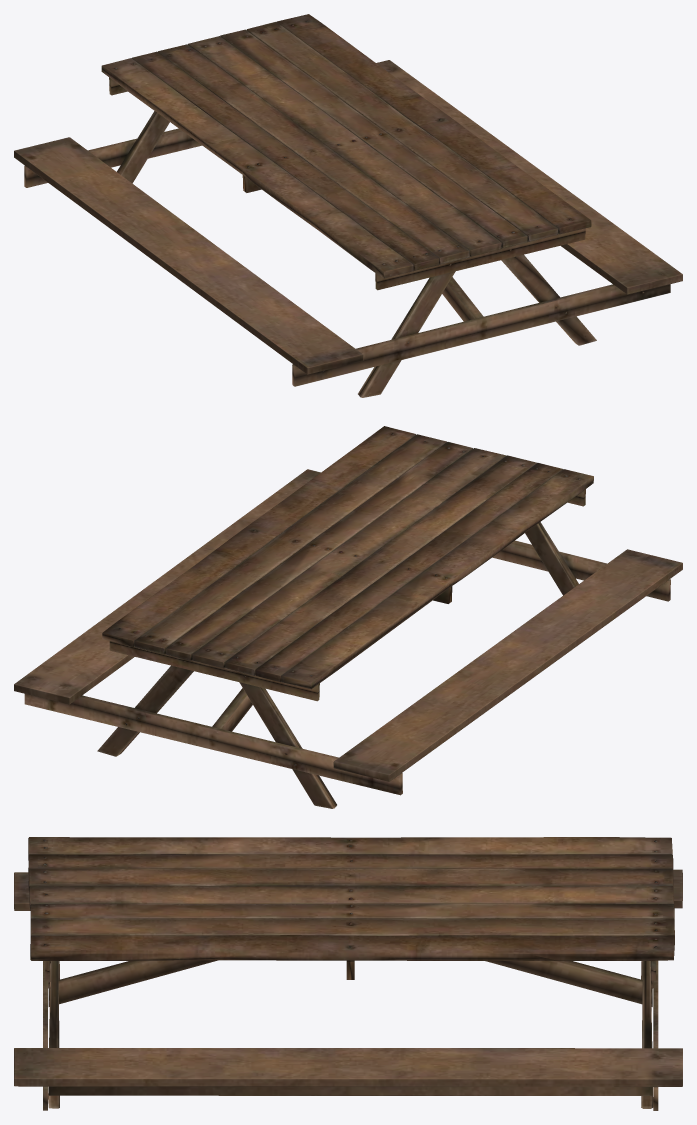
The model's file is wooden_picnic_table.glb.
3 renders of one model, top to bottom at view 1: azimuth 30°, elevation 25°; view 2: azimuth 150°, elevation 25°; view 3: azimuth 270°, elevation 25°, orthographic. The views are drawn at different scales.
Parts seen in each view (by area): view 1: wooden_picnic_table; view 2: wooden_picnic_table; view 3: wooden_picnic_table.
Part boxes in pixels (left/top/right/bottom): wooden_picnic_table: left=14, top=14, right=682, bottom=397; wooden_picnic_table: left=14, top=426, right=682, bottom=808; wooden_picnic_table: left=14, top=837, right=682, bottom=1110.
Size of the model in its own units: 2.24 by 0.7454 by 3.02.
Materials: 2 (2 with a texture image).
